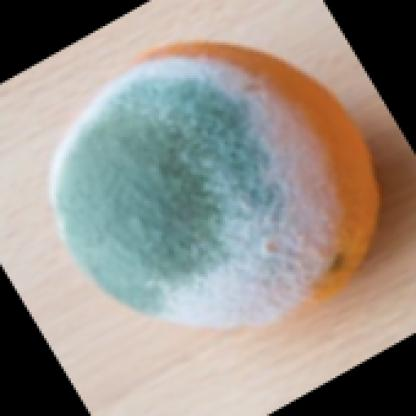rotten: (55, 42, 381, 333)
